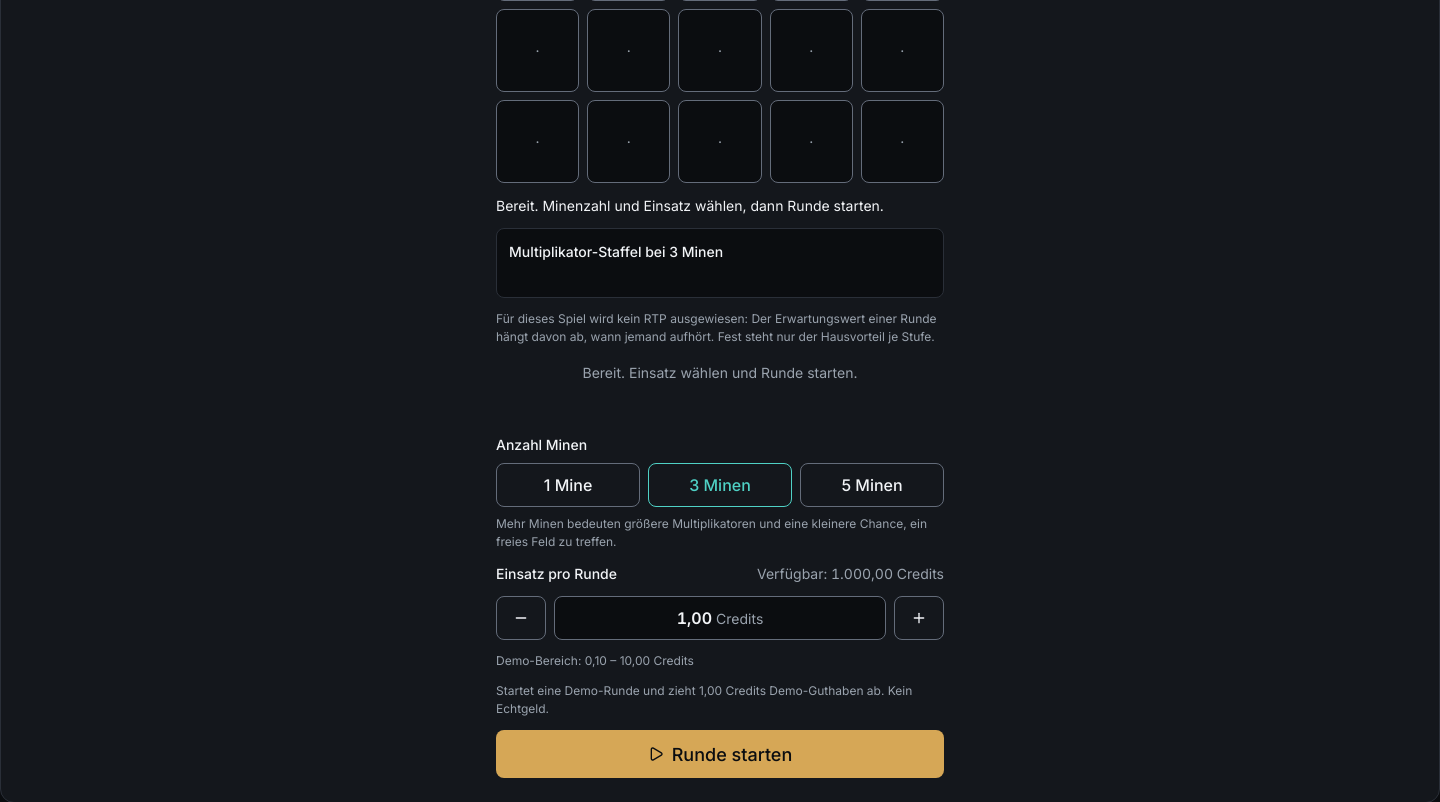
Arcade-Oberflächen › Mines: Runde starten, Feld aufdecken, auszahlen — der Betrag bleibt in der Obergrenze
This screenshot has width=1440, height=802.
(page scrolled)
Click the button "Runde starten" at (720, 754), box [496,730,944,778]
(page scrolled)
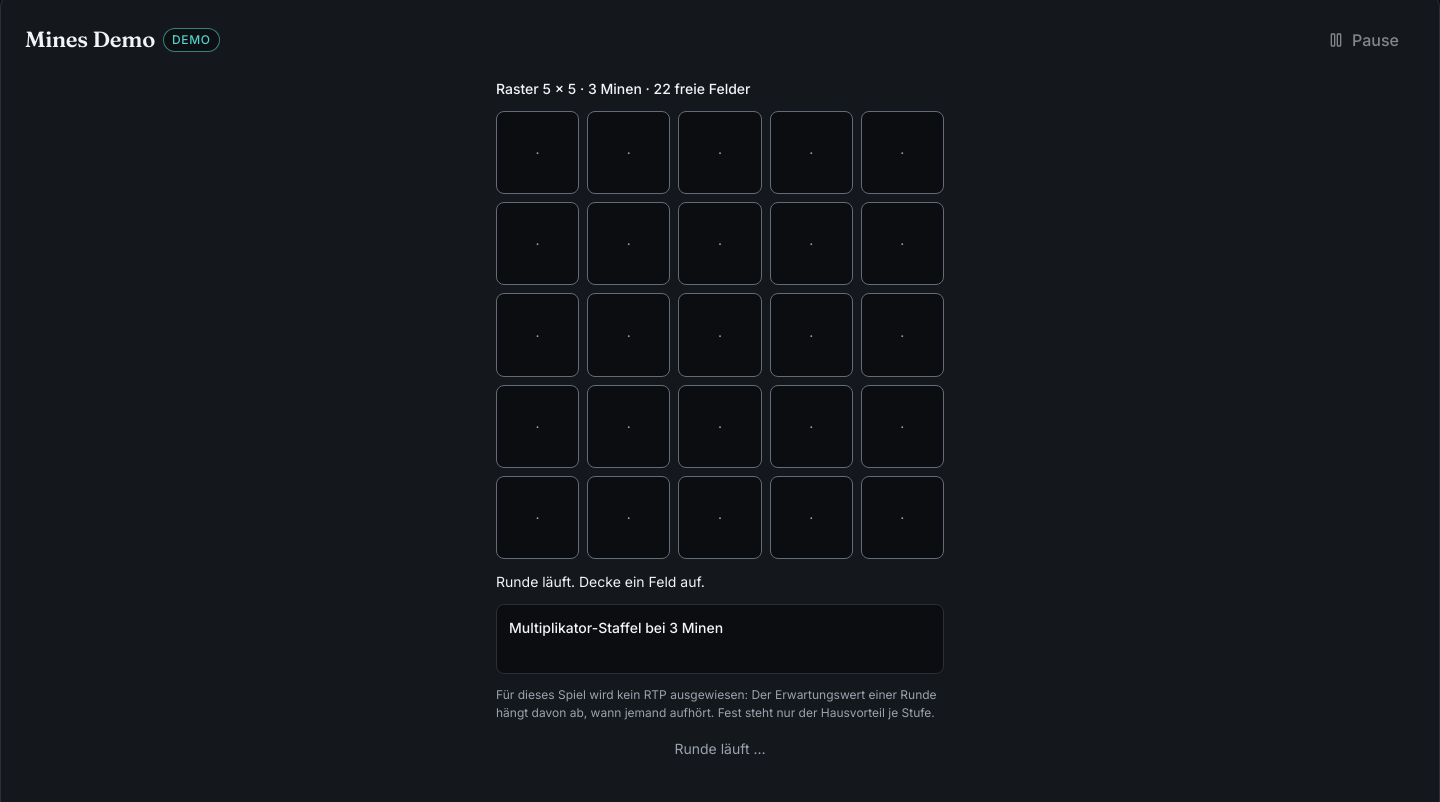
Click the 1st button "·" at (538, 153), box [496,111,579,194]
(page scrolled)
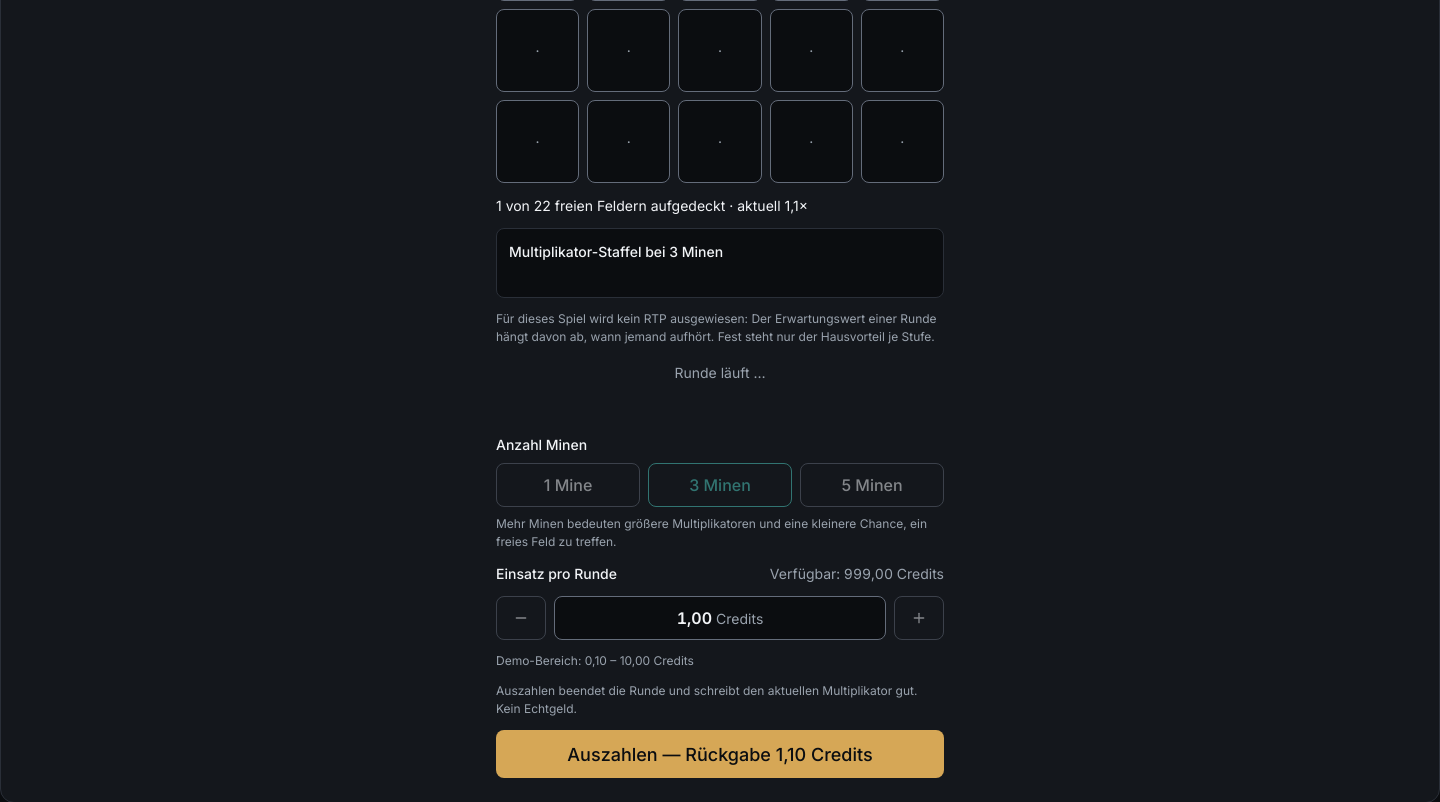
Click the button "Auszahlen — Rückgabe 1,10 Credits" at (720, 754), box [496,730,944,778]
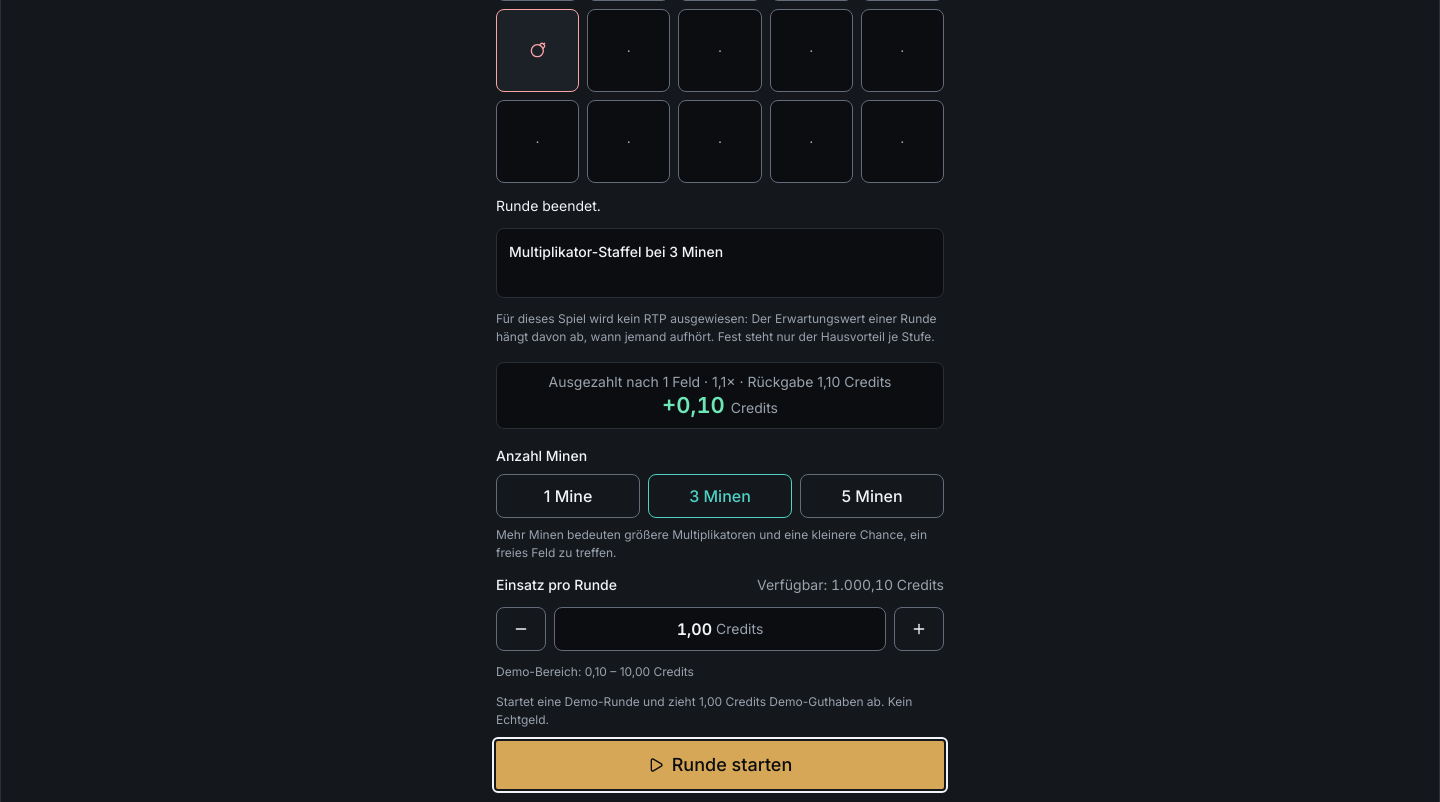
Check: the button "Runde starten" is shown, box [496,740,944,788]
